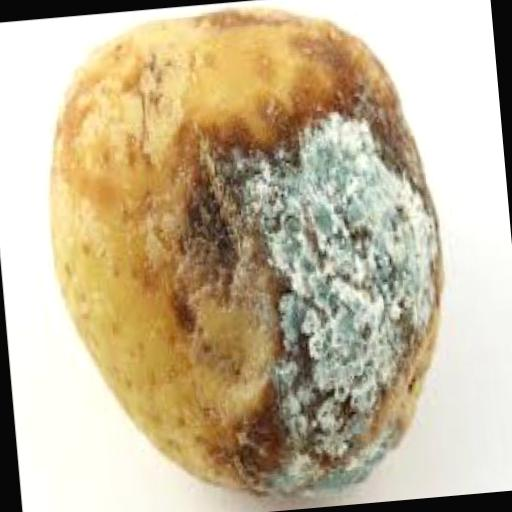biodegradable: (34, 0, 459, 507)
